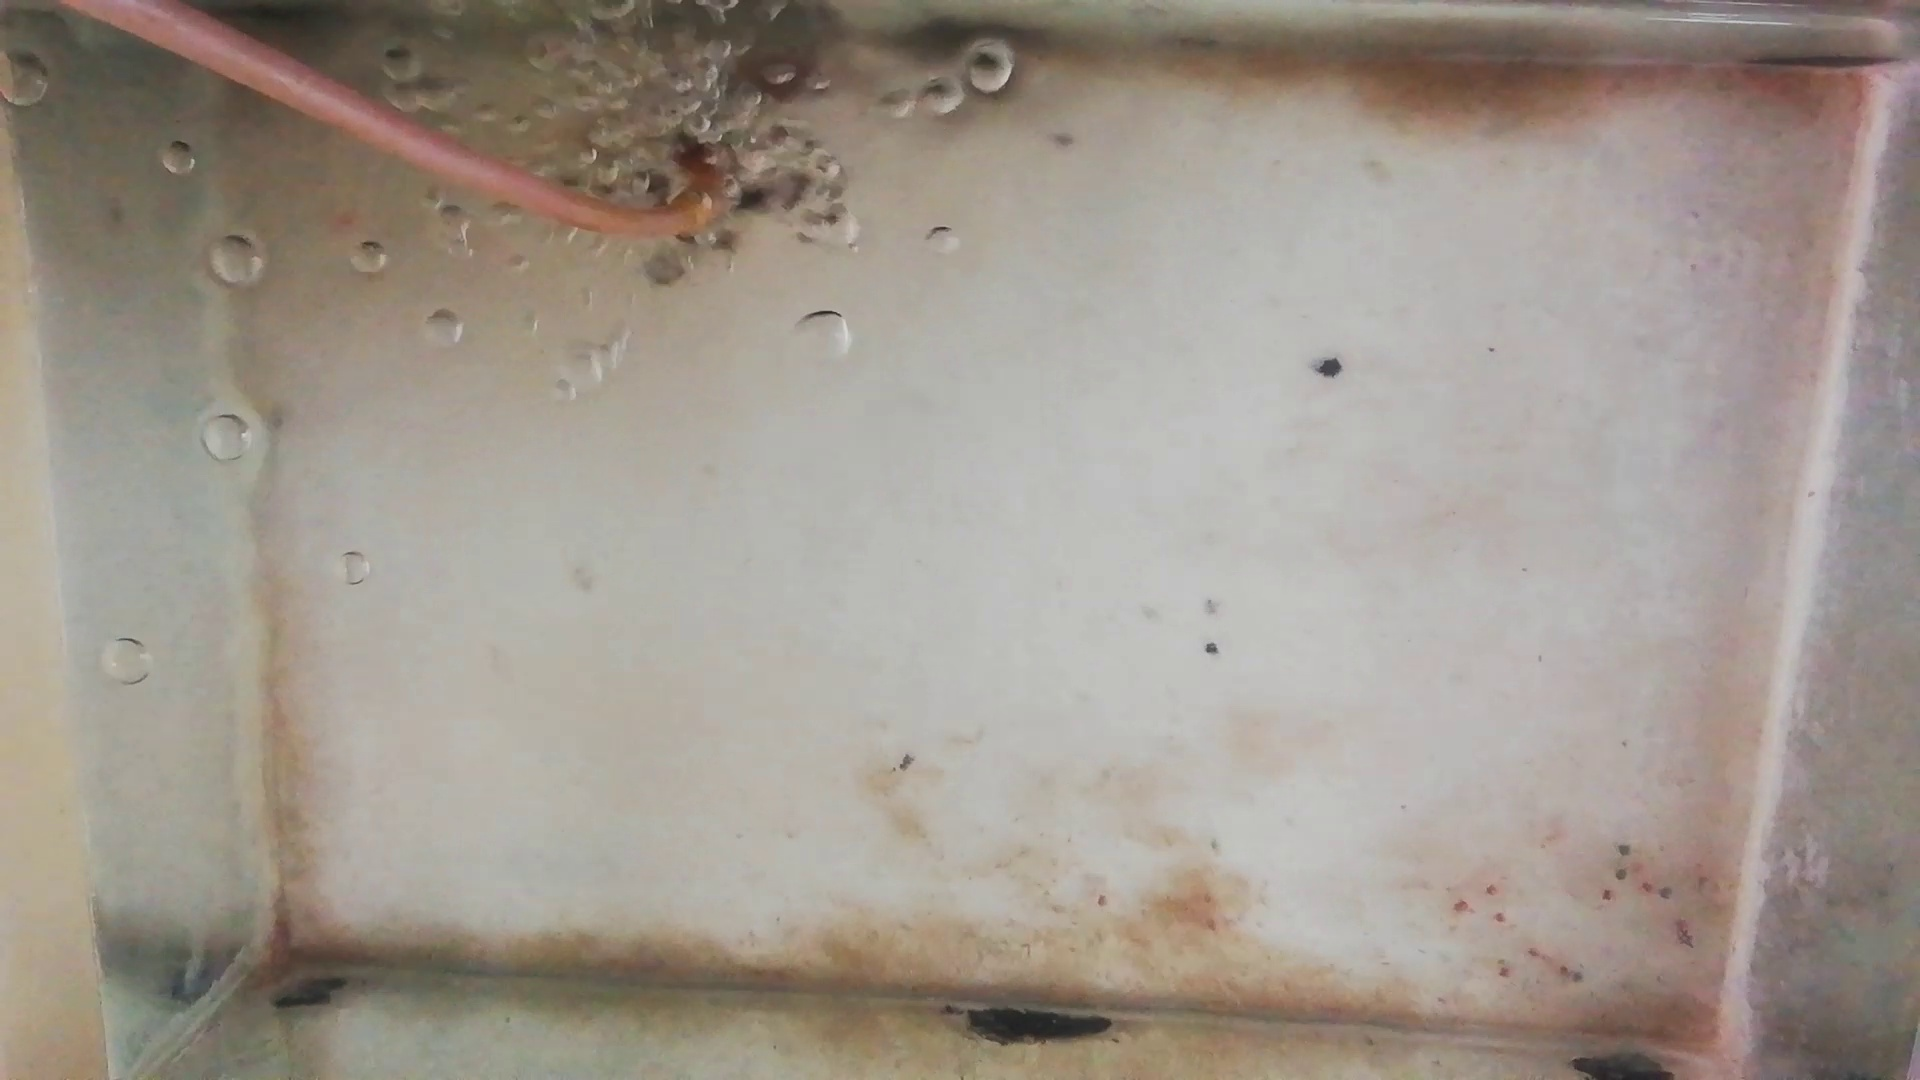fish: (651, 51, 825, 157), (731, 167, 825, 232)
